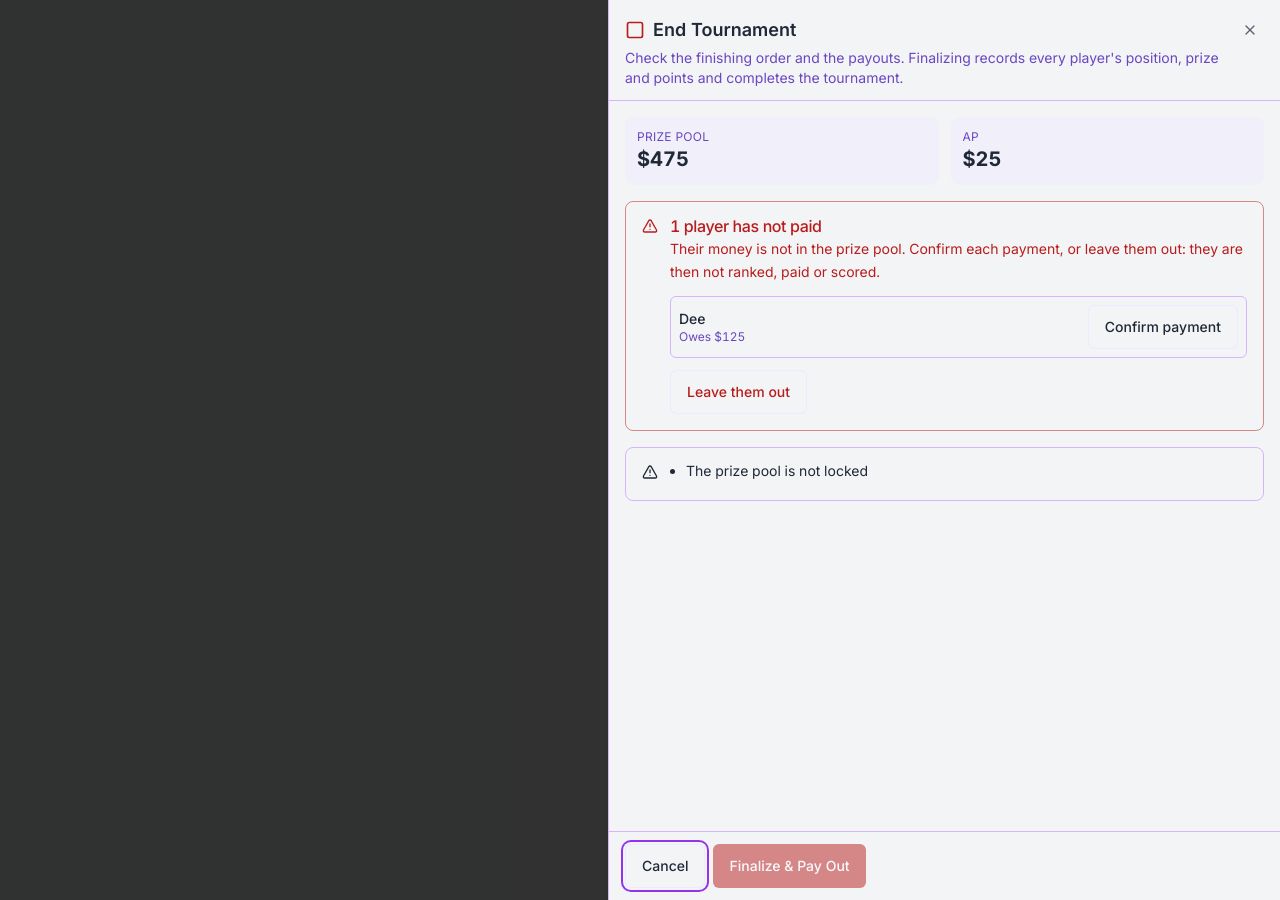
FinalizeDialog: players who have not paid (round 6) › confirms a payment from the dialog, works the plan out again and then finalizes with everyone paid
Click the button with aria-label "Confirm Dee's payment" at (1163, 326), box 1088,304 -> 1238,348
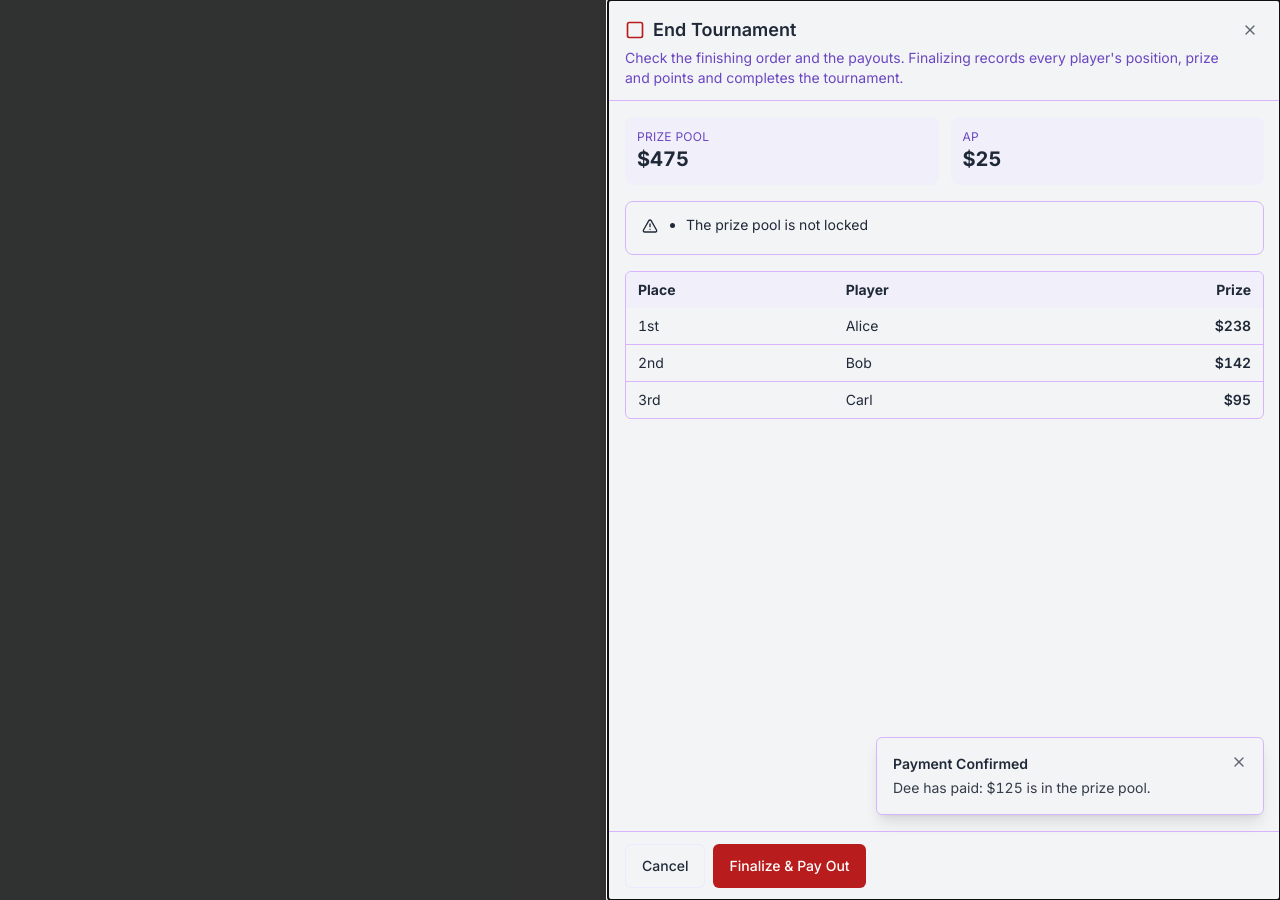
expect the message with test id "finalize-unpaid" is gone: met
expect the text "Dee has paid: $125 is in the prize pool." is shown: met, box 893,779 -> 1151,796
expect the button with test id "confirm-finalize" is enabled: met, box 714,844 -> 866,888
